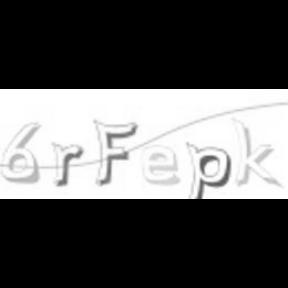6: (0, 120, 42, 184)
F: (92, 117, 140, 189)
e: (137, 143, 181, 187)
k: (231, 116, 283, 188)
p: (186, 140, 230, 200)
r: (50, 142, 84, 188)
